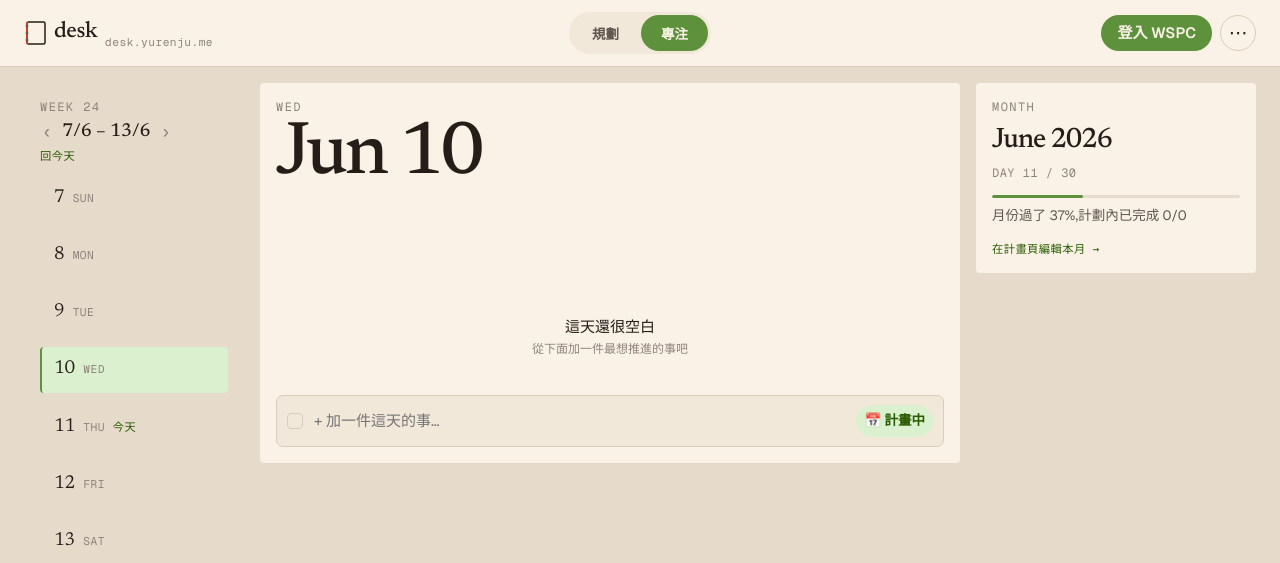
prev-week arrow pages the rail only, leaving the focus day and URL untouched
This screenshot has width=1280, height=563.
Expected: the heading "Jun 10" is shown, [276, 118, 482, 193]
Click the button named "上一週" at (47, 132), box [40, 118, 54, 146]
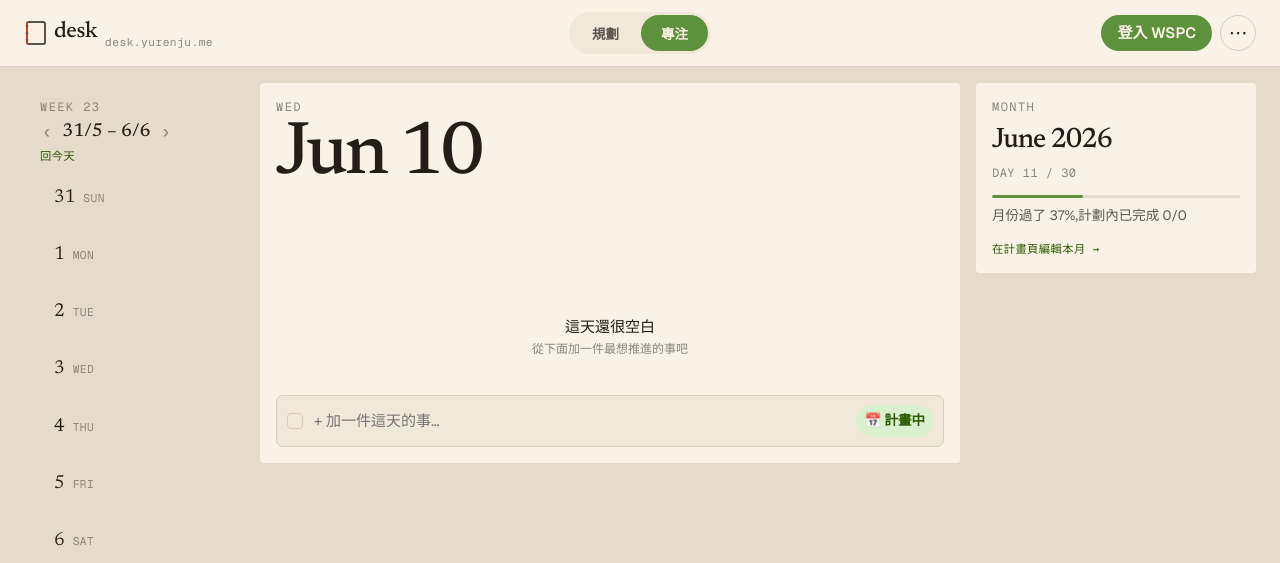
Expected: the heading "Jun 10" is shown, [276, 118, 482, 193]
Expected: the link with aria-label "切到 2026-06-03" is shown, [54, 360, 94, 378]
